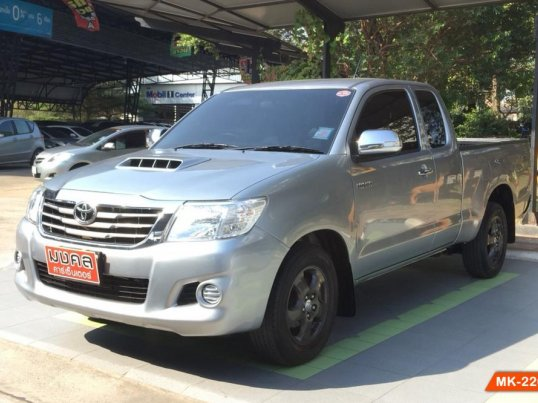pickup: (12, 75, 533, 364)
